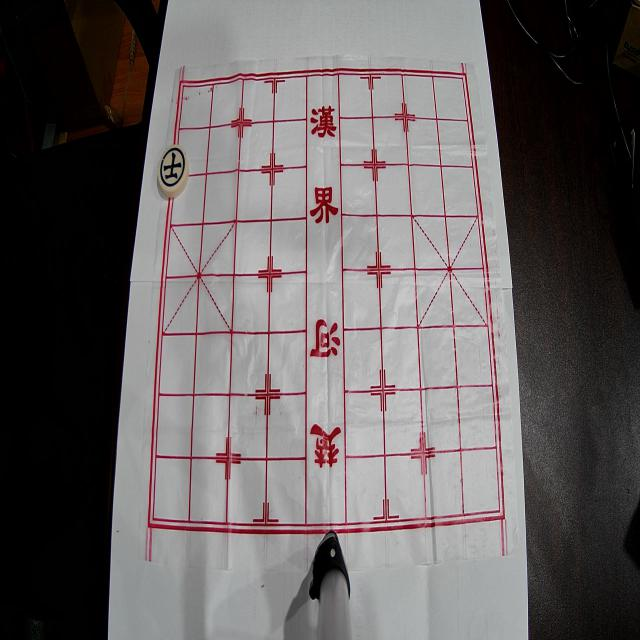black-guard: (158, 145, 189, 198)
